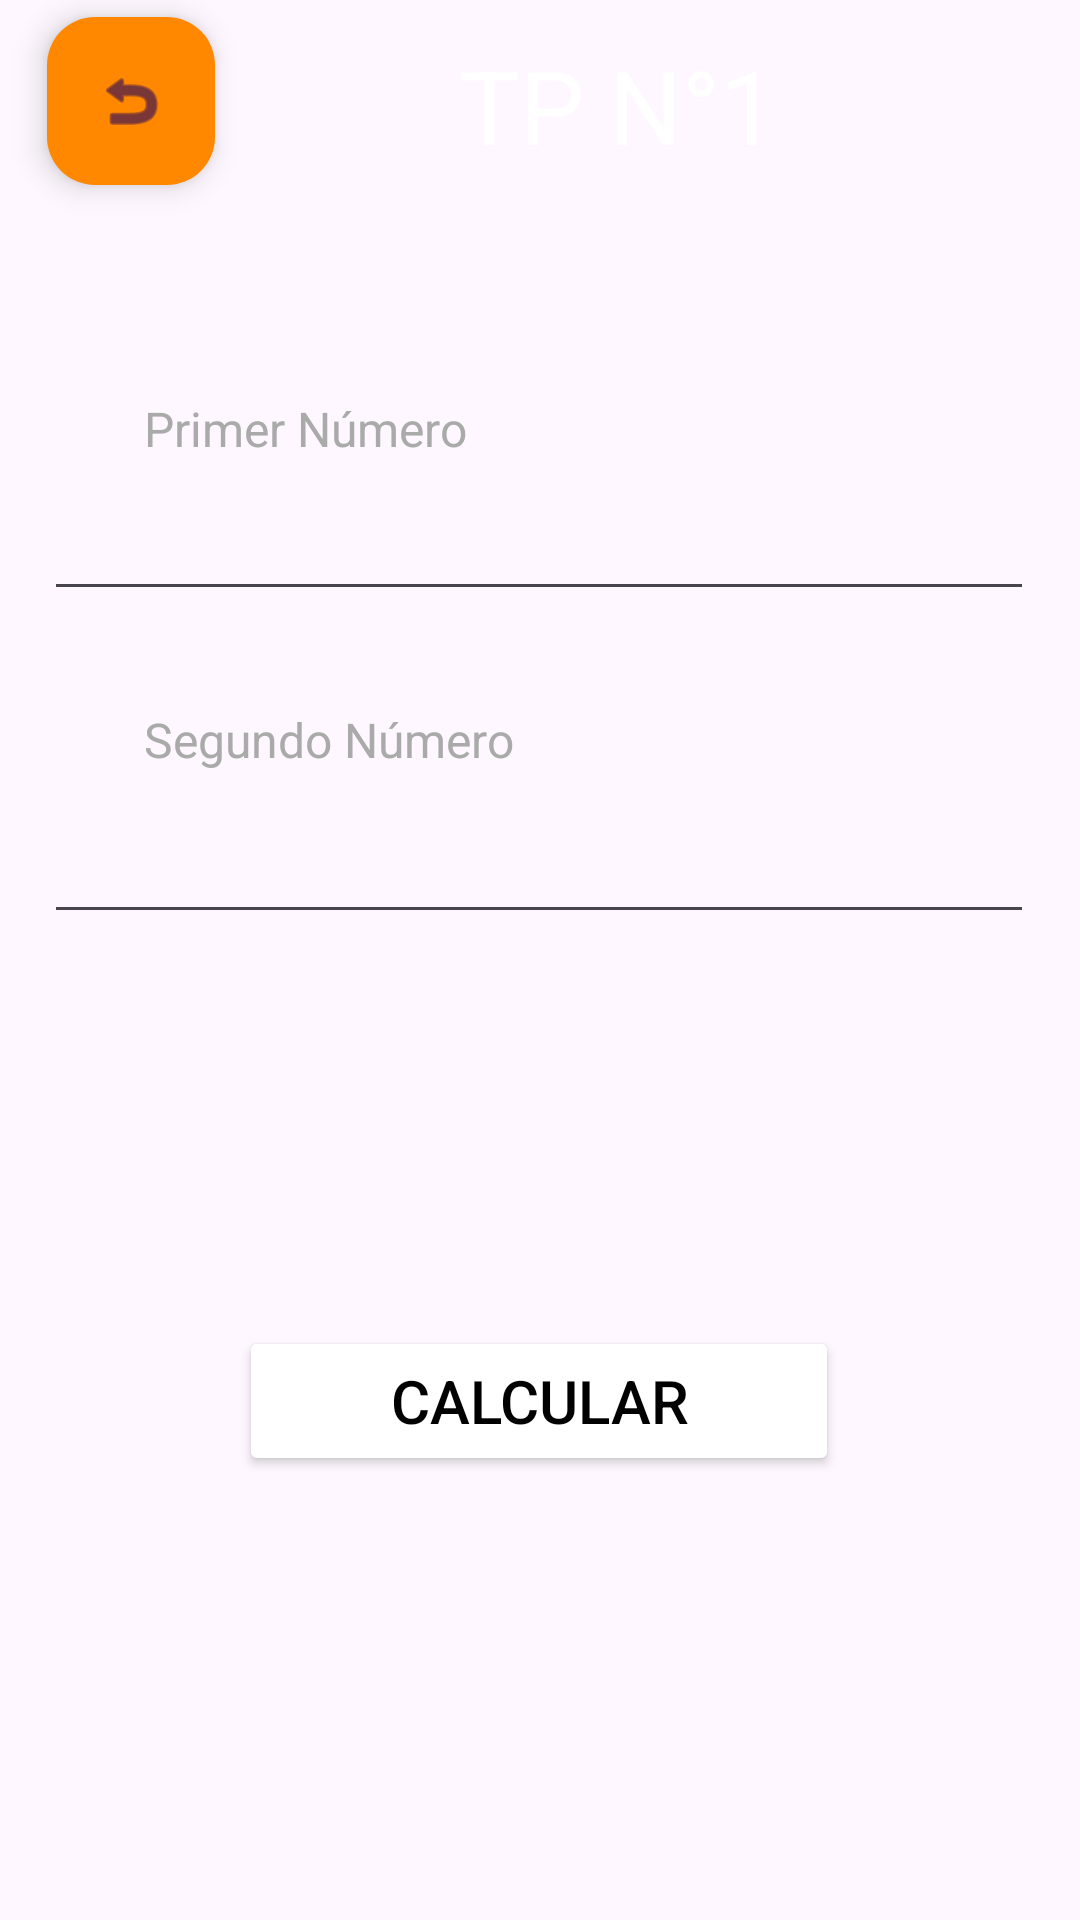

Icons on this 1080*1920 Android screen, each with the point to tap as [x,y]:
revert: [131,101]
